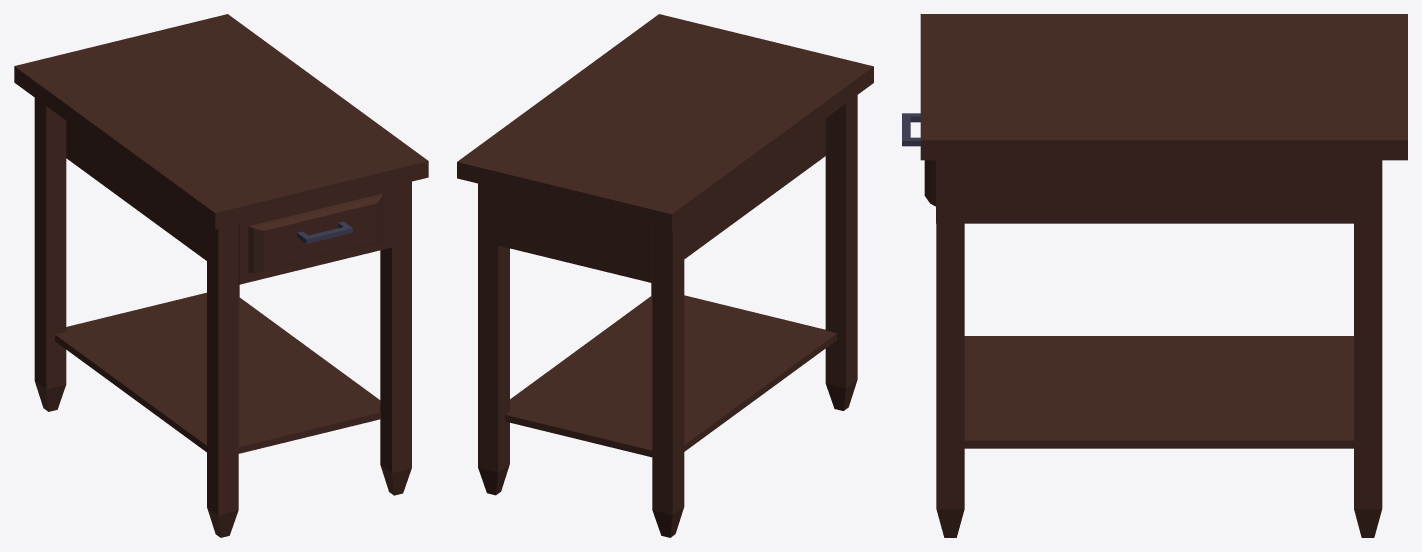
The model's file is Mini Side Table.fbx.
3 views of the same model, side by side, from view 1: azimuth 30°, elevation 25°; view 2: azimuth 150°, elevation 25°; view 3: azimuth 270°, elevation 25° (orthographic). The views are drawn at different scales.
Visible parts, largest first — view 1: Mini Side Table; view 2: Mini Side Table; view 3: Mini Side Table.
Boxes of the visible parts, bbox=[...] form: Mini Side Table: bbox=[14, 14, 428, 537]; Mini Side Table: bbox=[457, 14, 873, 537]; Mini Side Table: bbox=[902, 14, 1407, 537].
Bounding box in the file's own units: 63.09 × 94.74 × 107.
